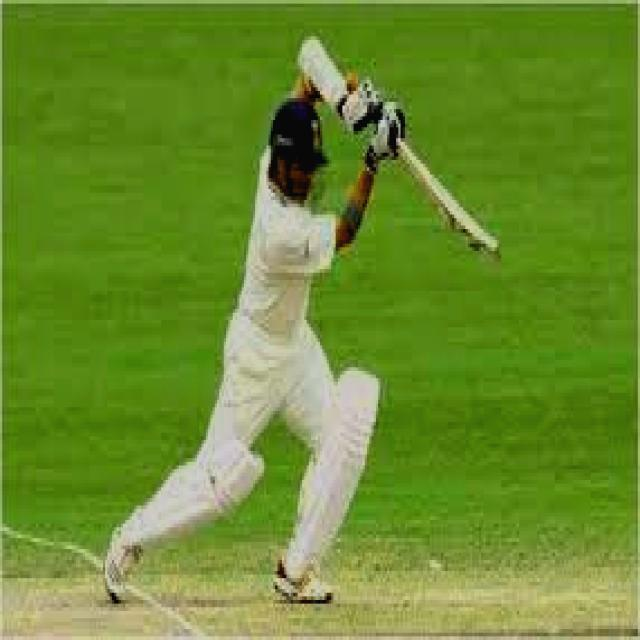bat: (395, 143, 504, 261)
toe: (488, 241, 498, 261)
